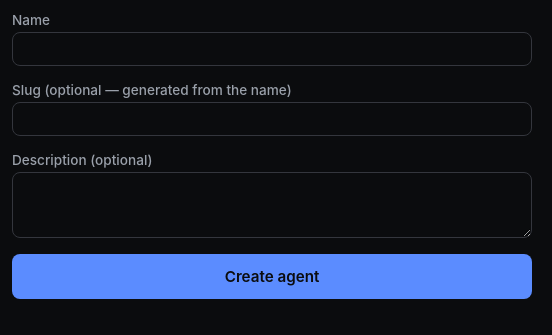
Test case: CreateAgentForm › shows field errors next to their inputs and marks them invalid
The image size is (552, 335).
Type "A" into the field labelled "Name".
click(272, 49); type("A")  # box x1=12 y1=32 x2=532 y2=66
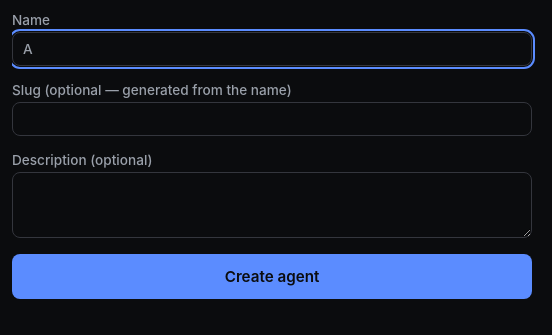
Click the button "Create agent".
click(272, 276)  # box x1=12 y1=254 x2=532 y2=299
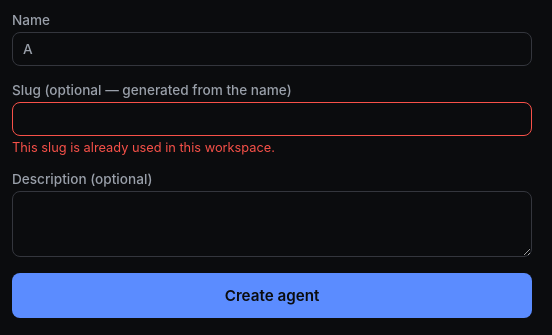
Expected: the text "This slug is already used in this workspace." is shown, x1=12 y1=140 x2=275 y2=155
